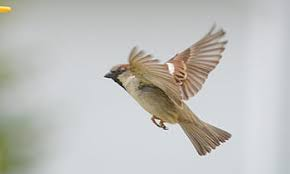hsparrow: (103, 20, 235, 157)
